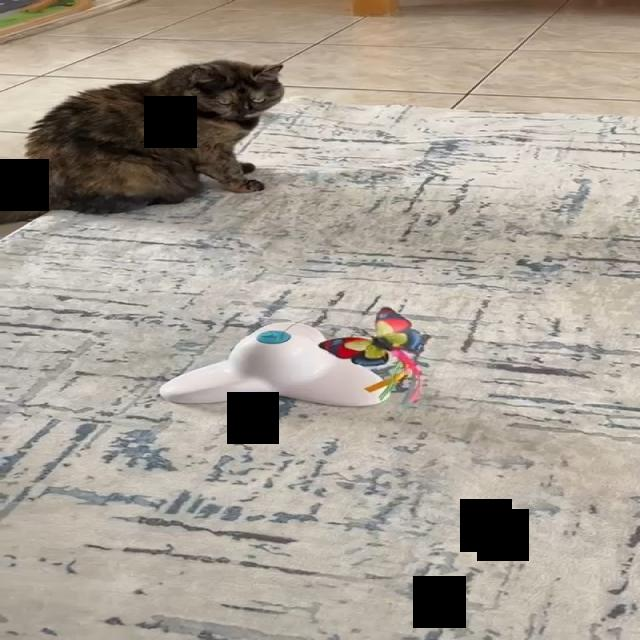authorized: (0, 58, 284, 224)
